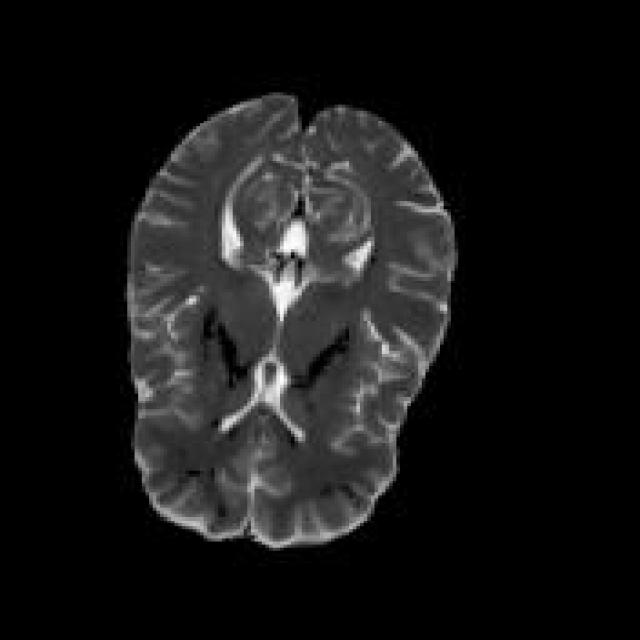parkinson: (124, 89, 458, 548)
